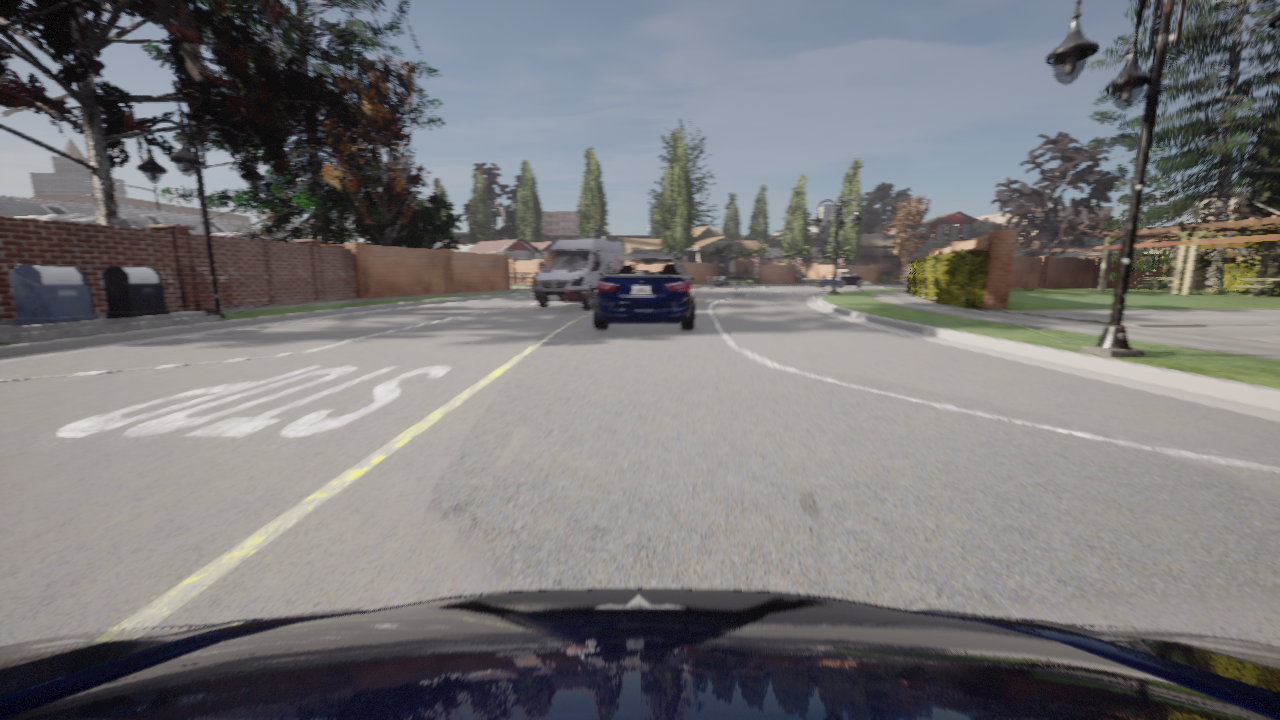cyclist: (0, 588, 1279, 719), (593, 253, 694, 329), (532, 238, 623, 307), (820, 270, 863, 287)
pedestrian: (681, 266, 684, 274), (535, 272, 537, 273)
